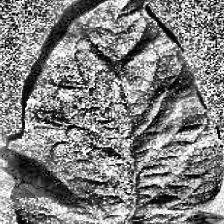spider mites: (11, 0, 224, 224)
